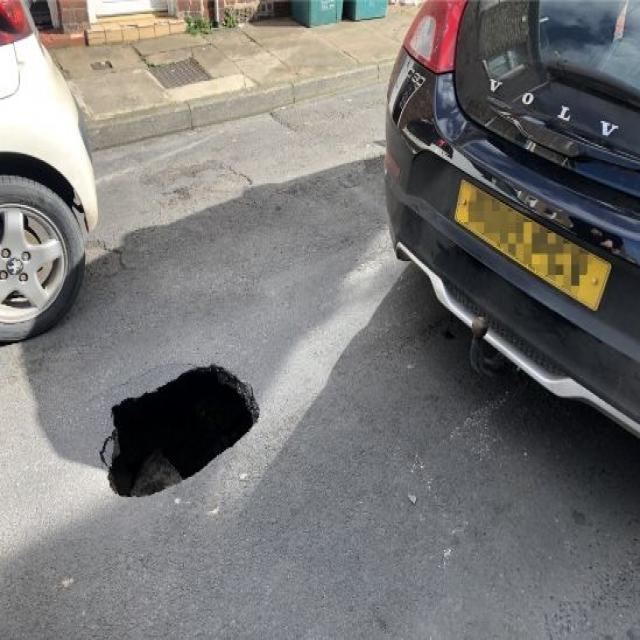pothole: (90, 357, 262, 500)
